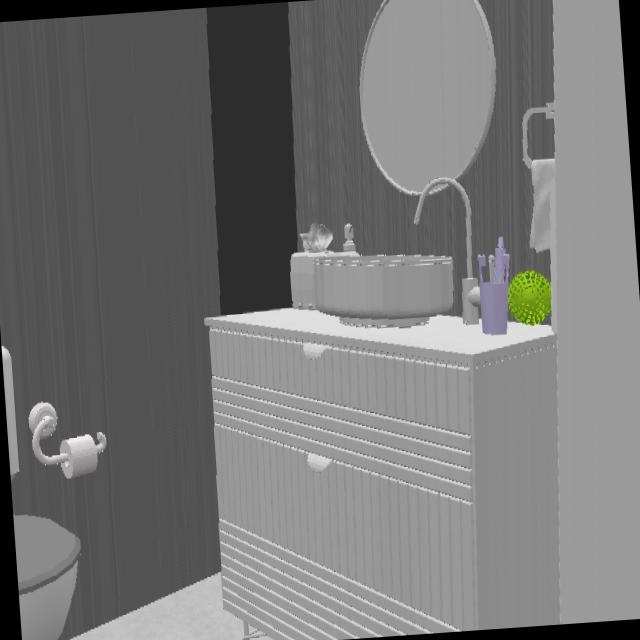cabinet: (204, 308, 560, 640)
toilet: (13, 514, 81, 640), (1, 346, 19, 476)
washbasin: (315, 254, 454, 320), (414, 178, 476, 277)
